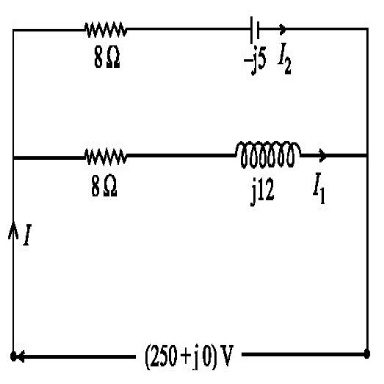DC voltage source: (248, 14, 261, 44)
Inductor: (233, 140, 301, 168)
Resistor: (82, 20, 129, 39), (82, 147, 127, 166)
